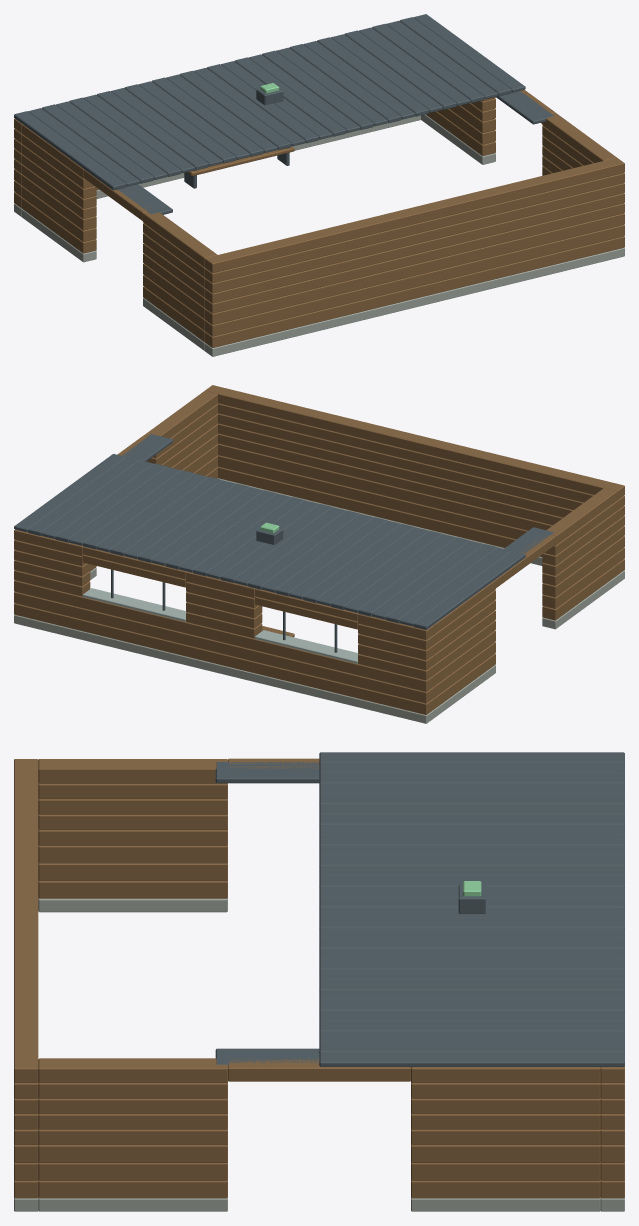
The model's file is watch_post.glb.
3 renders of one model, top to bottom at view 1: azimuth 30°, elevation 25°; view 2: azimuth 150°, elevation 25°; view 3: azimuth 270°, elevation 25°, orthographic. The views are drawn at different scales.
Visible parts, largest first — view 1: Occlude_Walls_Mesh, Keep_Mesh; view 2: Occlude_Walls_Mesh, Keep_Mesh; view 3: Occlude_Walls_Mesh, Keep_Mesh.
Part boxes in pixels (box(x1,y1,x2,y2)): Occlude_Walls_Mesh: box(14, 14, 624, 313); Keep_Mesh: box(14, 105, 624, 356); Occlude_Walls_Mesh: box(14, 385, 624, 680); Keep_Mesh: box(14, 443, 624, 723); Occlude_Walls_Mesh: box(14, 752, 624, 1144); Keep_Mesh: box(14, 845, 624, 1211).
Bounding box in the file's own units: 12 × 3.1 × 10.
